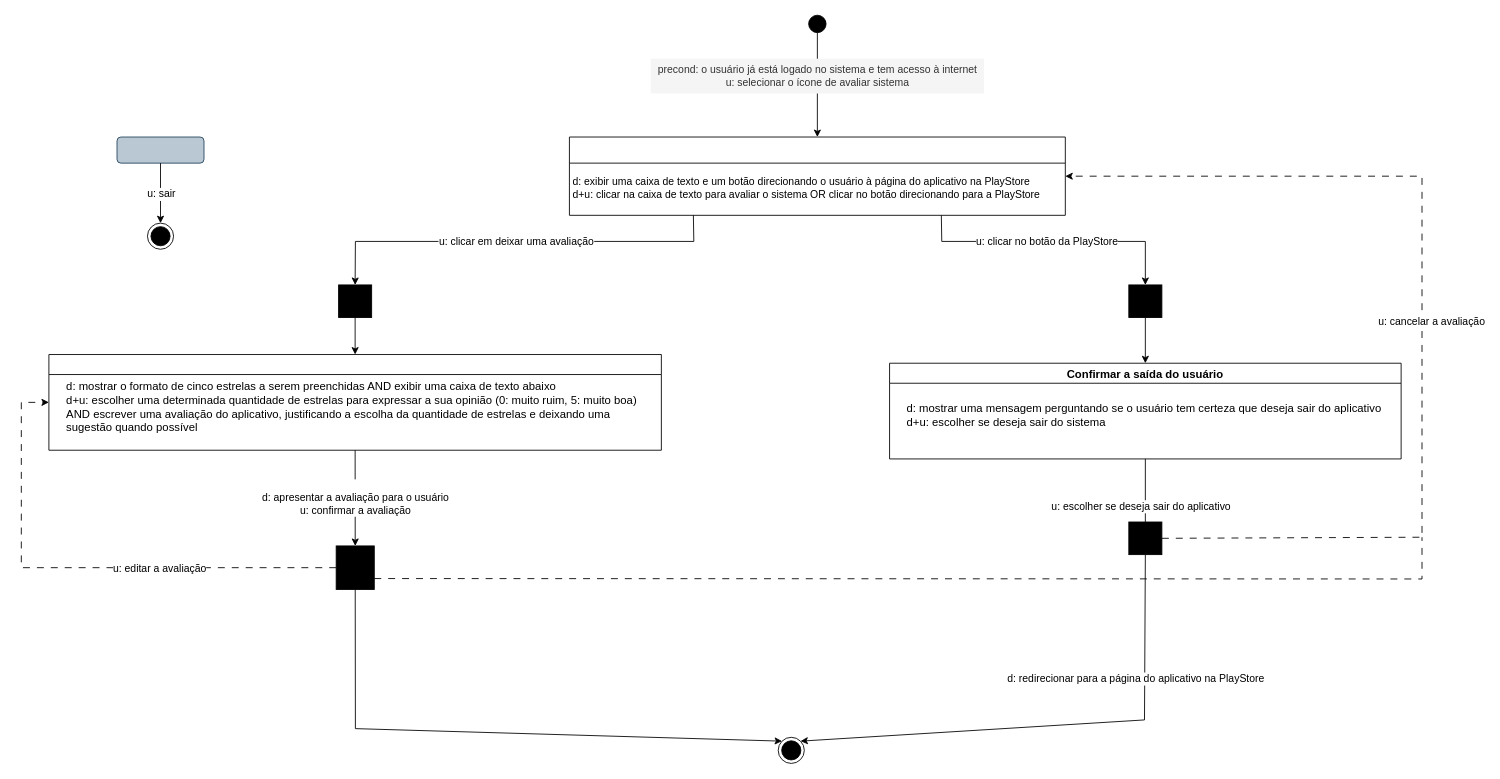
Some shapes in this 1500 by 779 pixel diagram are drawn without their labels. Each missing label, with the box of its shape:
Avaliar o aplicativo pelo próprio sistema: (48, 354, 661, 450)
Selecionar a forma de avaliação: (569, 136, 1065, 215)
